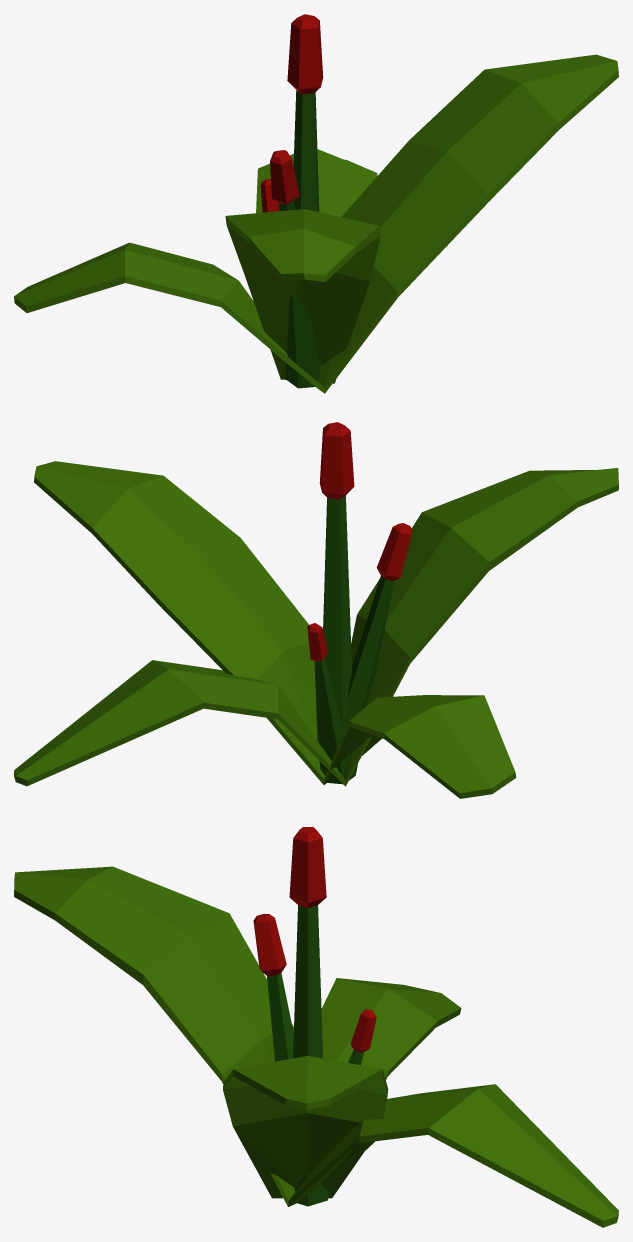
3 views of the same model, one above another, from view 1: azimuth 30°, elevation 25°; view 2: azimuth 150°, elevation 25°; view 3: azimuth 270°, elevation 25° (orthographic). The views are drawn at different scales.
Parts seen in each view (by area): view 1: Big_grass_with_flowers; view 2: Big_grass_with_flowers; view 3: Big_grass_with_flowers.
Boxes of the visible parts, x1=… form: Big_grass_with_flowers: x1=14, y1=14, x2=618, y2=393; Big_grass_with_flowers: x1=14, y1=422, x2=618, y2=798; Big_grass_with_flowers: x1=14, y1=827, x2=618, y2=1227.
Size of the model in its own units: 0.916 by 0.5845 by 0.8709.
